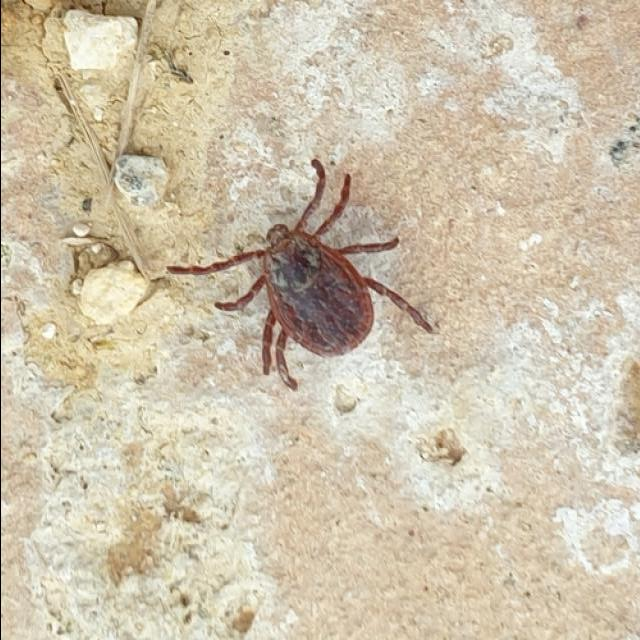Dermacentor Reticulatus-F: (163, 160, 431, 389)
